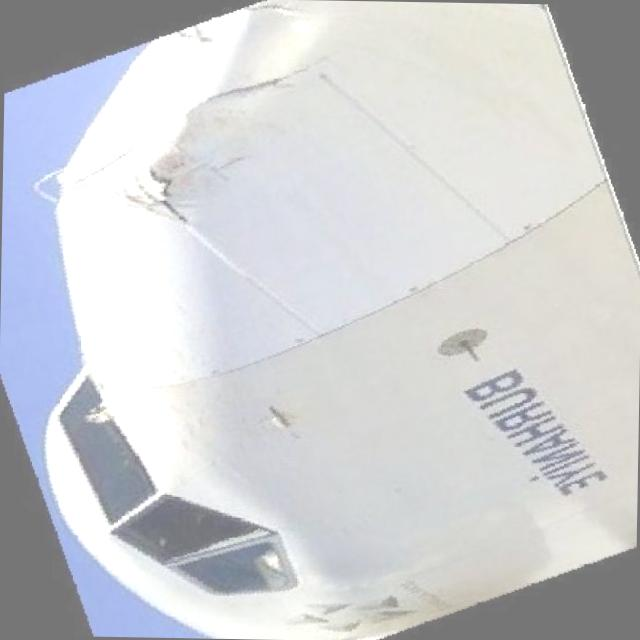dent: (52, 13, 268, 234)
